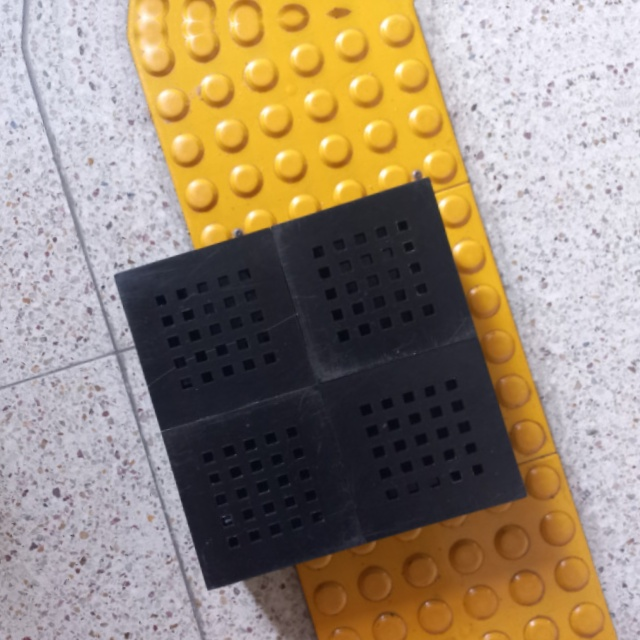pallet: (111, 176, 533, 595)
